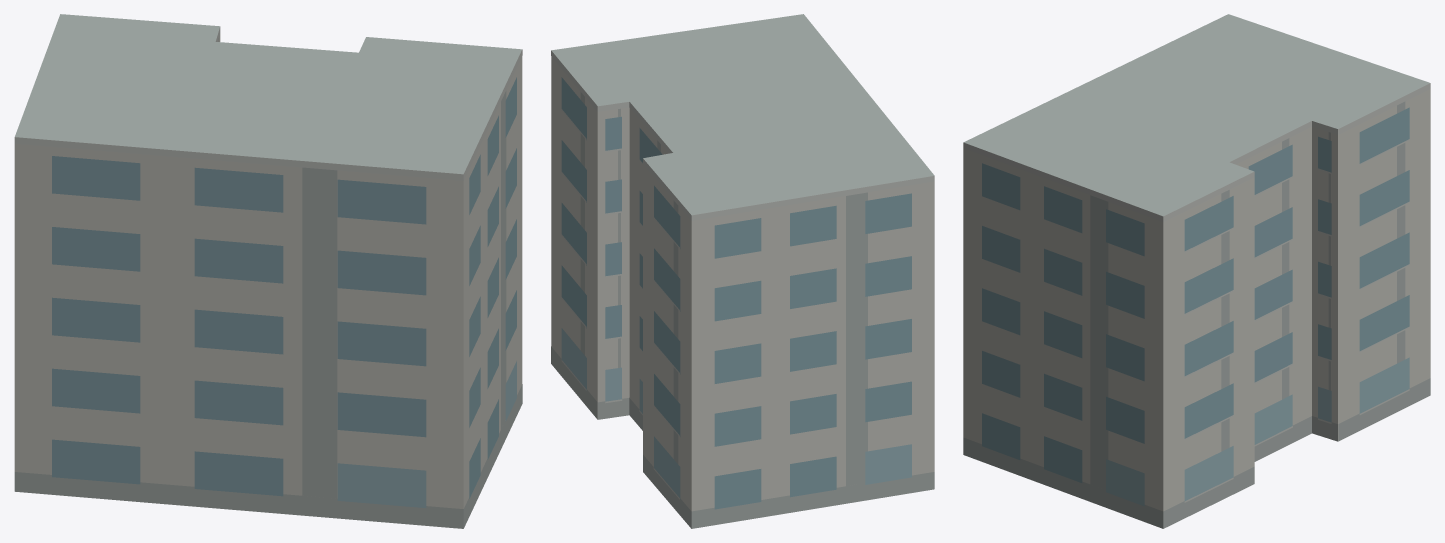
Rendered from survey-upis-32852810.glb.
The picture shows the model from 3 angles, left to right: view 1: azimuth 30°, elevation 25°; view 2: azimuth 150°, elevation 25°; view 3: azimuth 270°, elevation 25°; orthographic projection. The views are drawn at different scales.
Parts seen in each view (by area): view 1: survey-upis-32852810.tmp; view 2: survey-upis-32852810.tmp; view 3: survey-upis-32852810.tmp.
Part boxes in pixels (left/top/right/bottom): survey-upis-32852810.tmp: left=14, top=14, right=522, bottom=528; survey-upis-32852810.tmp: left=551, top=14, right=934, bottom=528; survey-upis-32852810.tmp: left=963, top=14, right=1430, bottom=528.
Bounding box in the file's own units: 18.35 × 13.2 × 17.9.
